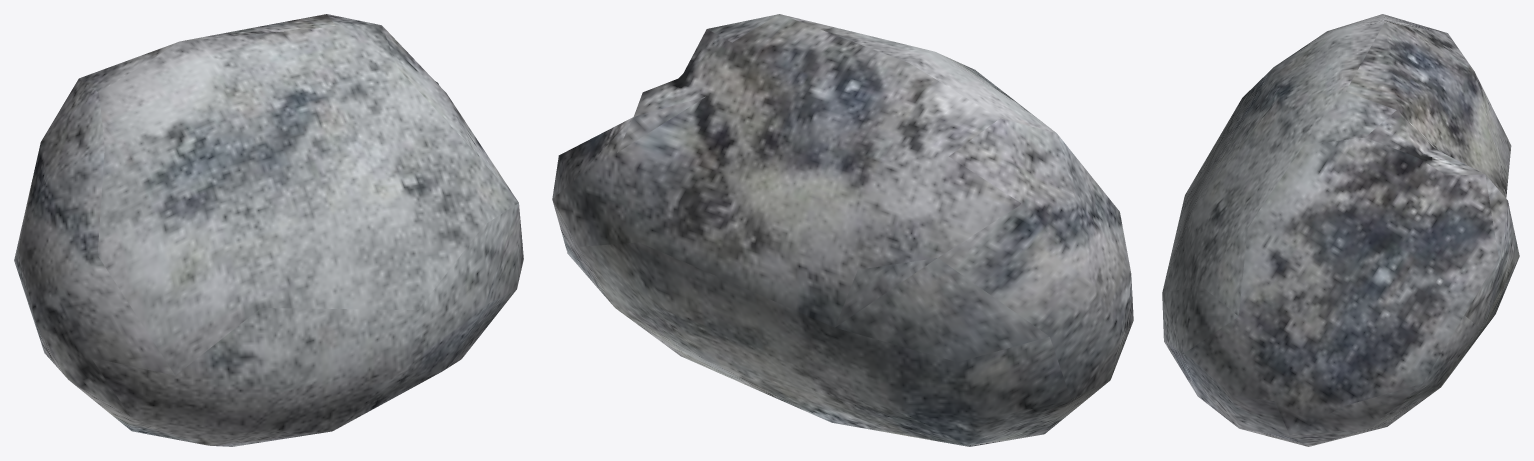
3 views of the same model, side by side, from view 1: azimuth 30°, elevation 25°; view 2: azimuth 150°, elevation 25°; view 3: azimuth 270°, elevation 25° (orthographic). The views are drawn at different scales.
Visible parts, largest first — view 1: rock073_lod4; view 2: rock073_lod4; view 3: rock073_lod4.
Part boxes in pixels (bbox=[...]): rock073_lod4: bbox=[14, 14, 523, 446]; rock073_lod4: bbox=[552, 14, 1133, 446]; rock073_lod4: bbox=[1162, 14, 1519, 446].
Size of the model in its own units: 1 by 0.7426 by 0.6759.
1 material, 1 textured.
